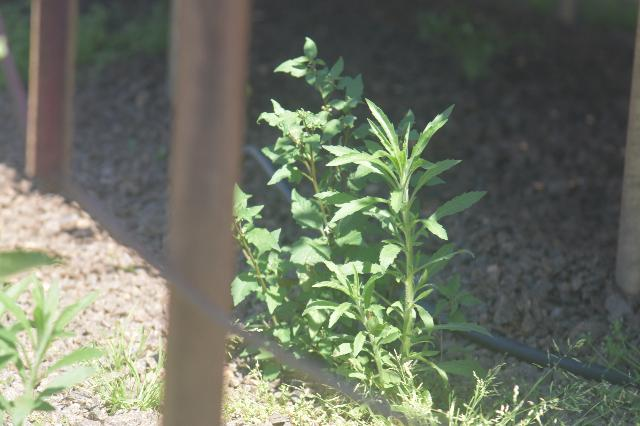MalezaMontesDelPlata: (350, 97, 483, 426), (252, 35, 367, 371), (0, 277, 108, 426), (483, 324, 639, 426), (225, 185, 311, 365), (84, 317, 164, 419), (222, 373, 348, 426)
